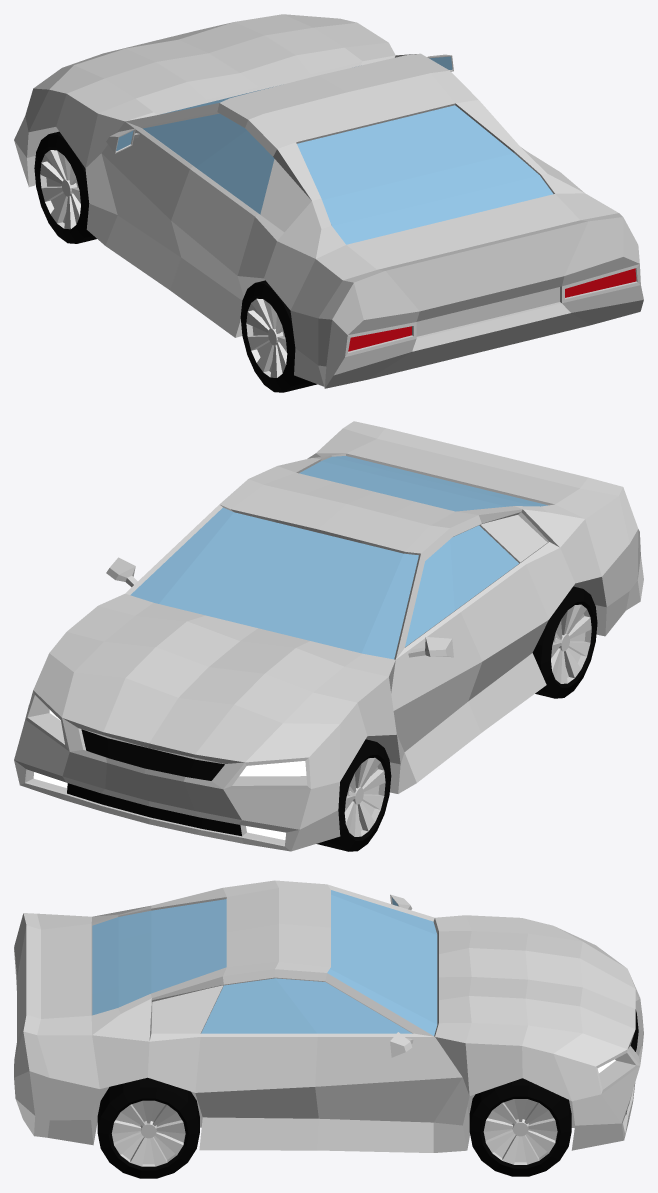
Rendered from low poly car.gltf.
3 views of the same model, one above another, from view 1: azimuth 30°, elevation 25°; view 2: azimuth 150°, elevation 25°; view 3: azimuth 270°, elevation 25° (orthographic). The views are drawn at different scales.
Visible parts, largest first — view 1: Car, Left_Back_Wheel, Left_Front_Wheel; view 2: Car, Left_Back_Wheel, Left_Front_Wheel; view 3: Car, Right_Back_Wheel, Right_Front_Wheel.
Part boxes in pixels (box(x1,y1,x2,y2)): Car: box(14, 14, 643, 388); Left_Back_Wheel: box(240, 280, 317, 392); Left_Front_Wheel: box(34, 131, 96, 243); Car: box(14, 421, 643, 851); Left_Back_Wheel: box(532, 586, 597, 698); Left_Front_Wheel: box(316, 739, 391, 851); Car: box(14, 880, 643, 1152); Right_Back_Wheel: box(97, 1077, 199, 1178); Right_Front_Wheel: box(469, 1078, 571, 1176).
Bounding box in the file's own units: 2.5 × 1.47 × 4.44.
